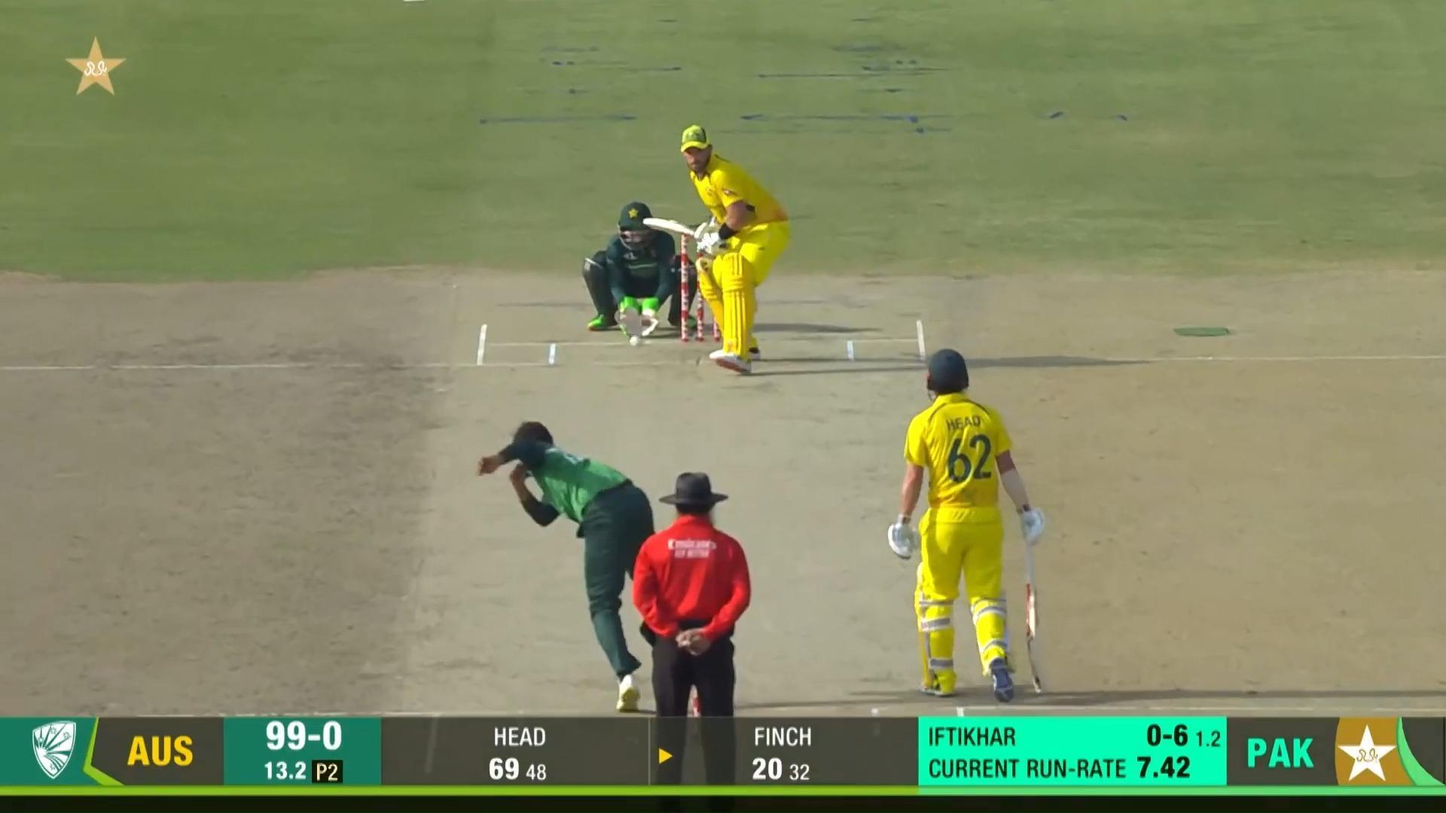BM 1: (643, 123, 792, 376)
BO: (475, 419, 656, 714)
